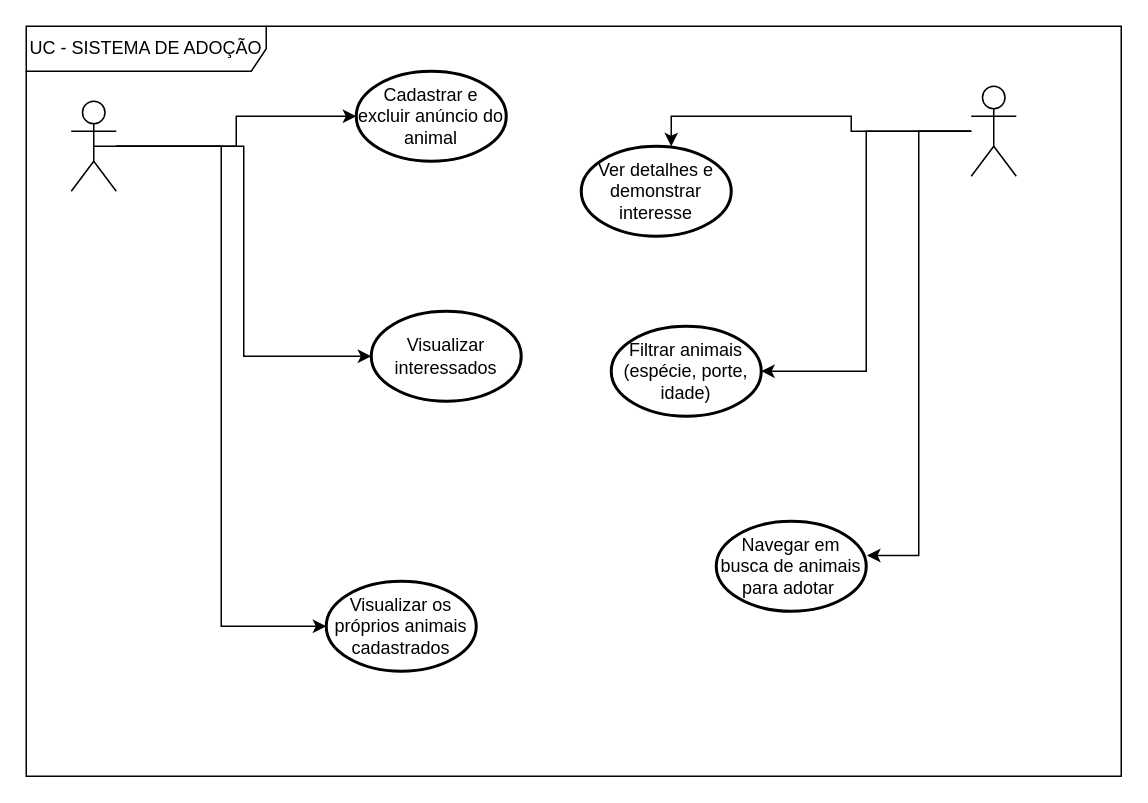
The diagram is 1148 pixels wide and 803 high, and some of its shapes have lost their labels. Here are the shapes that lost their labels. From the top down, the centre of each, then its label:
At point 93,145: "Administrador".
At point 993,130: "Usúario(adodante)".
